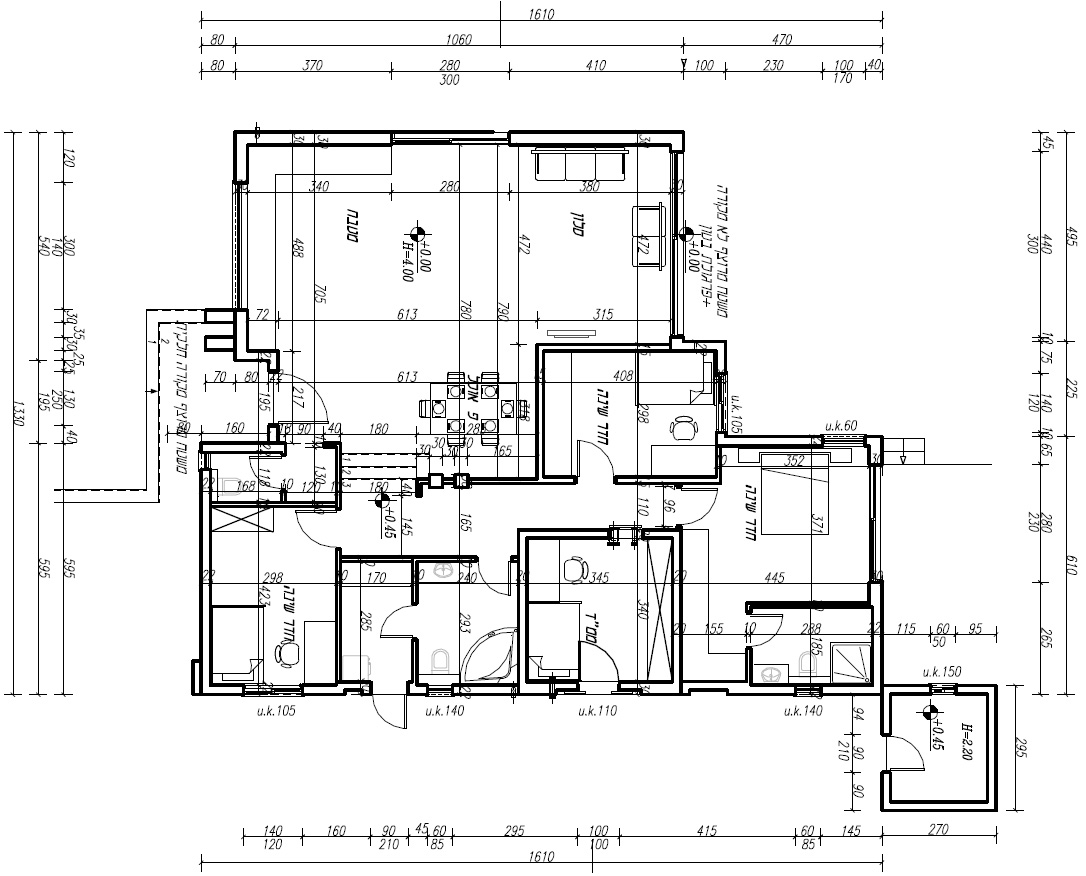door: (284, 365, 334, 430), (575, 640, 626, 680), (375, 599, 410, 653), (292, 507, 331, 555), (896, 731, 929, 786), (575, 432, 617, 473), (366, 703, 417, 736), (685, 486, 726, 526), (475, 567, 515, 604), (756, 609, 789, 651), (244, 453, 276, 490)
